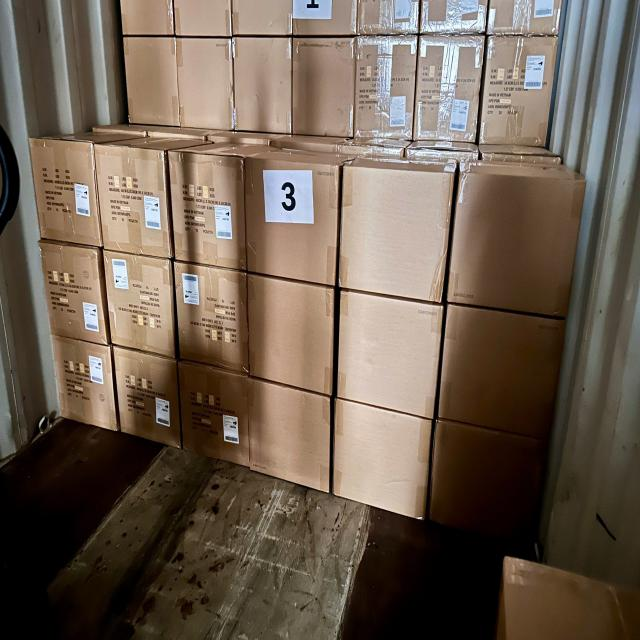Carton: (463, 172, 573, 319), (446, 304, 558, 439), (343, 165, 442, 304), (341, 288, 436, 420), (438, 421, 532, 547), (336, 400, 428, 523), (248, 158, 336, 285), (247, 272, 334, 397), (248, 376, 330, 492), (168, 150, 247, 268), (94, 144, 172, 258), (173, 260, 249, 374), (103, 248, 175, 357), (178, 359, 250, 468), (30, 138, 100, 249), (38, 237, 108, 346), (112, 348, 180, 448), (46, 334, 116, 431)
